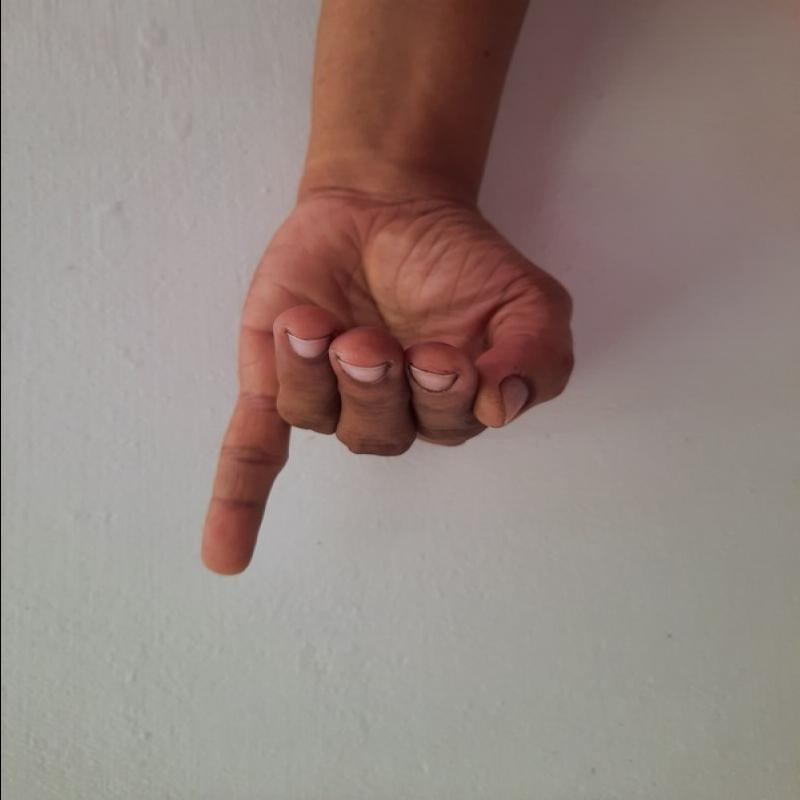Kartharee Mukham: (187, 185, 598, 588)
